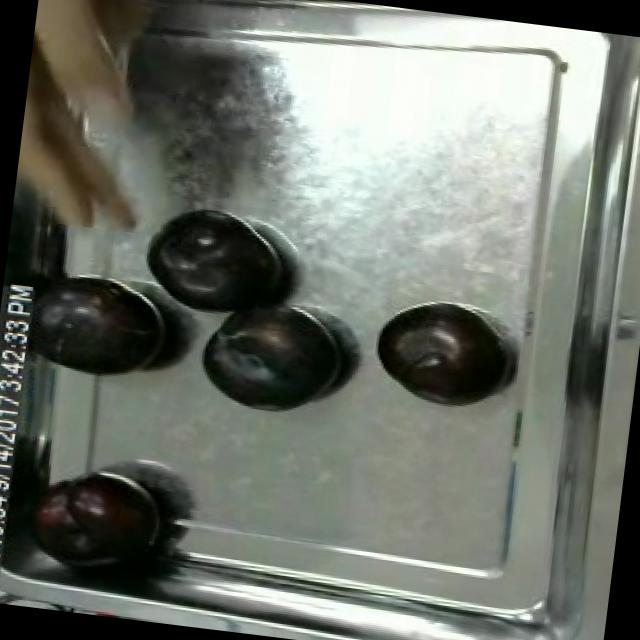Fruit: (187, 294, 356, 428), (131, 198, 300, 330), (18, 456, 168, 574), (366, 300, 510, 414)
